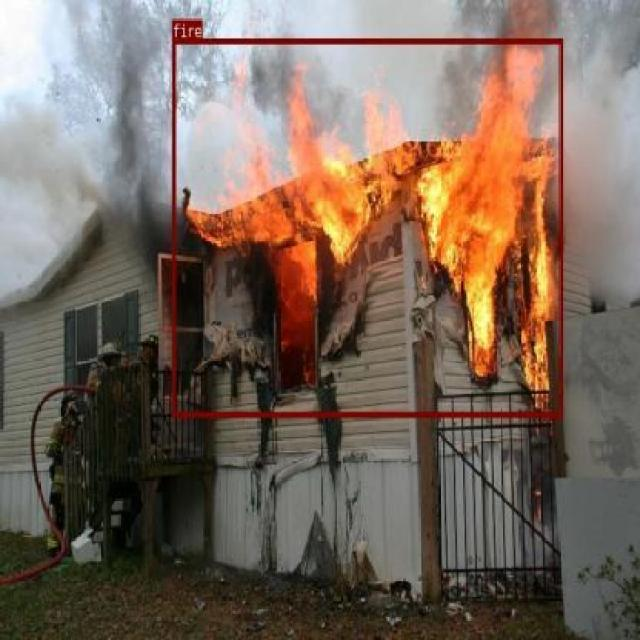Fire: (172, 38, 562, 416)
Smoke: (4, 20, 163, 337)
